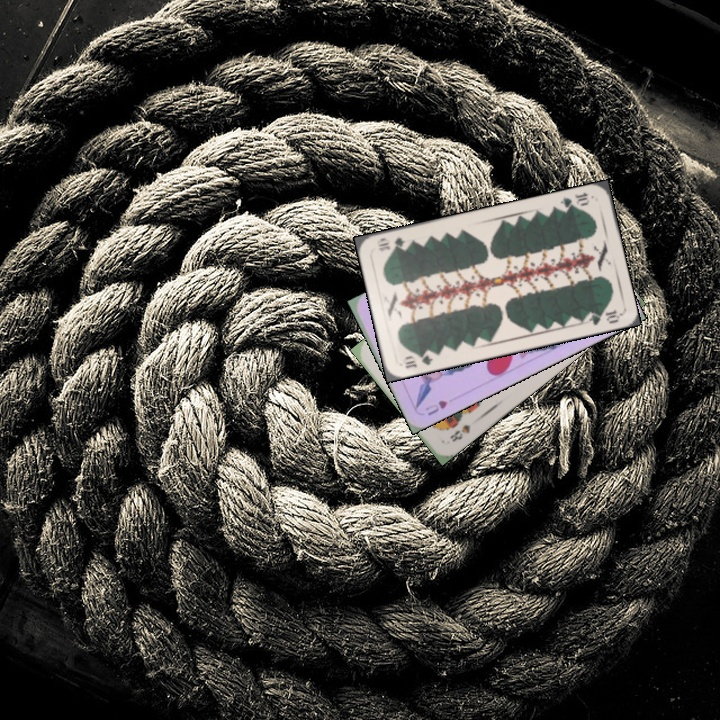G10: (556, 188, 592, 214), (400, 348, 435, 371)
HU: (421, 396, 450, 418)
S8: (445, 420, 473, 445)
